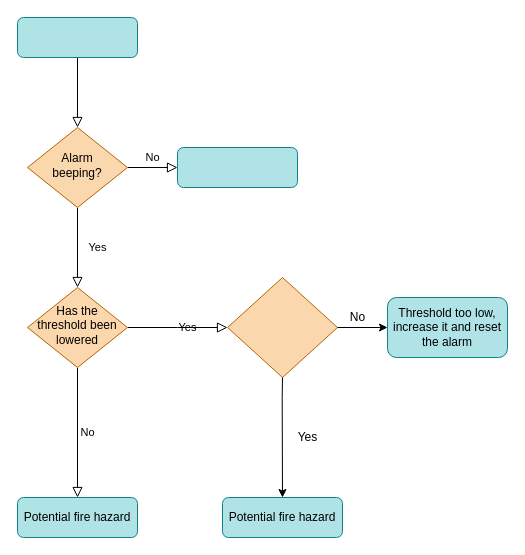
Some shapes in this 525 by 555 pixel diagram are drawn without their labels. The shapes that lost their labels are listed below. From the top down, each one's box as (x1, y1, x2, y2) in pixels, then its label:
(16, 16, 138, 58): Turn alarm on
(176, 146, 298, 188): Everything's ok
(226, 276, 338, 378): Is there cause for concern?
